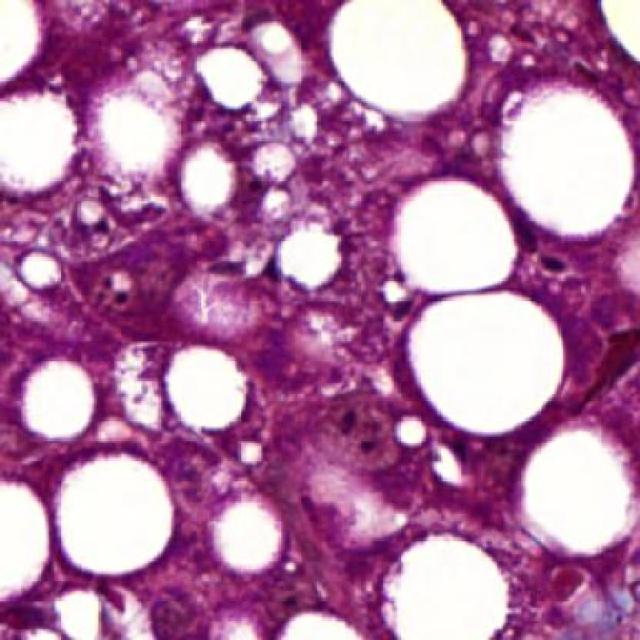steatosis: (398, 288, 574, 440), (60, 449, 171, 579)
